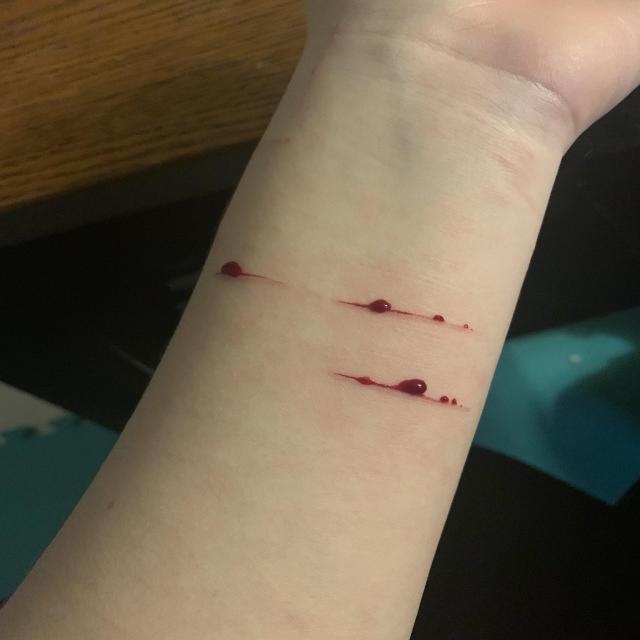Cut: (208, 272, 482, 316), (325, 367, 485, 410)
